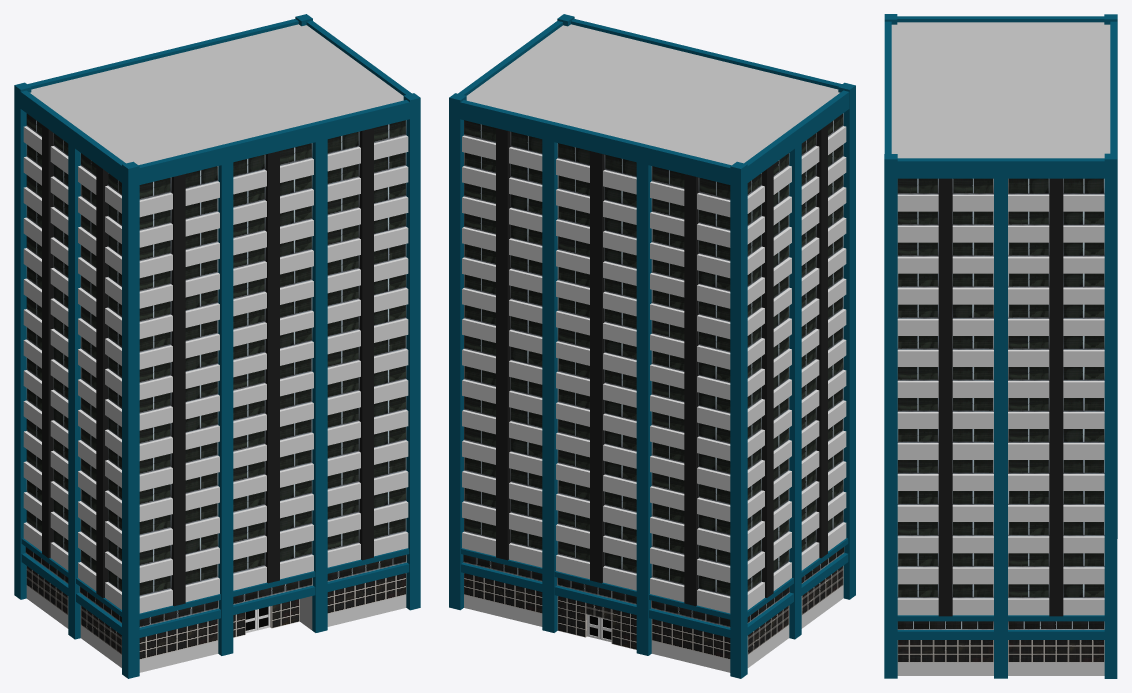
Rendered from Office-07.fbx.
The picture shows the model from 3 angles, left to right: view 1: azimuth 30°, elevation 25°; view 2: azimuth 150°, elevation 25°; view 3: azimuth 270°, elevation 25°; orthographic projection.
Visible parts, largest first — view 1: Building; view 2: Building; view 3: Building.
Boxes of the visible parts, box(x1,y1,x2,y2) form: Building: box(14, 14, 420, 678); Building: box(449, 14, 855, 678); Building: box(884, 14, 1117, 678).
Size of what is drawn, in the model's own units: 30.14 by 50.2 by 20.44.
